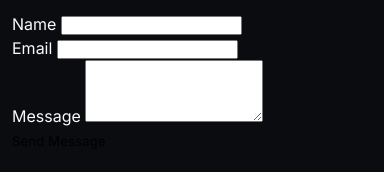
Test: ContactForm › Validation - Email › fails for empty email
The image size is (384, 172).
Clear the field with id "contact-email". click: (147, 50)
box: [57,40,238,59]
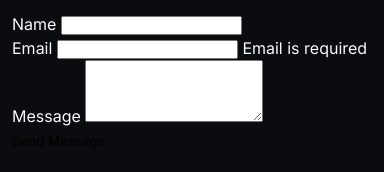
expect the message with id "email-error" reads "Email is required": met, box [242,38,367,58]
